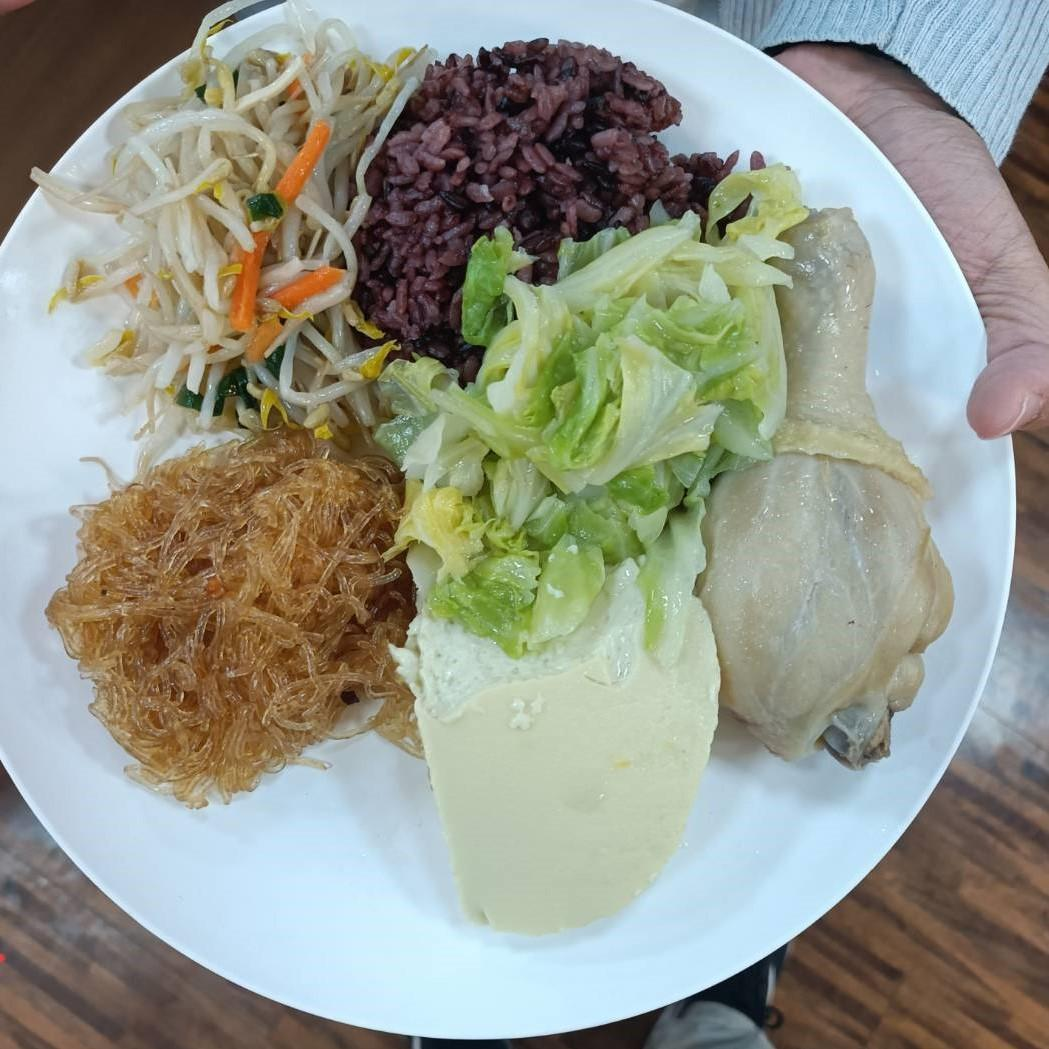big fried chicken leg: (10, 13, 1024, 1042)
braised fish: (370, 66, 706, 361)
braised fish fillet: (382, 203, 811, 602), (64, 407, 390, 823), (416, 528, 710, 941), (83, 53, 394, 423)
braised pork: (708, 218, 962, 778)
